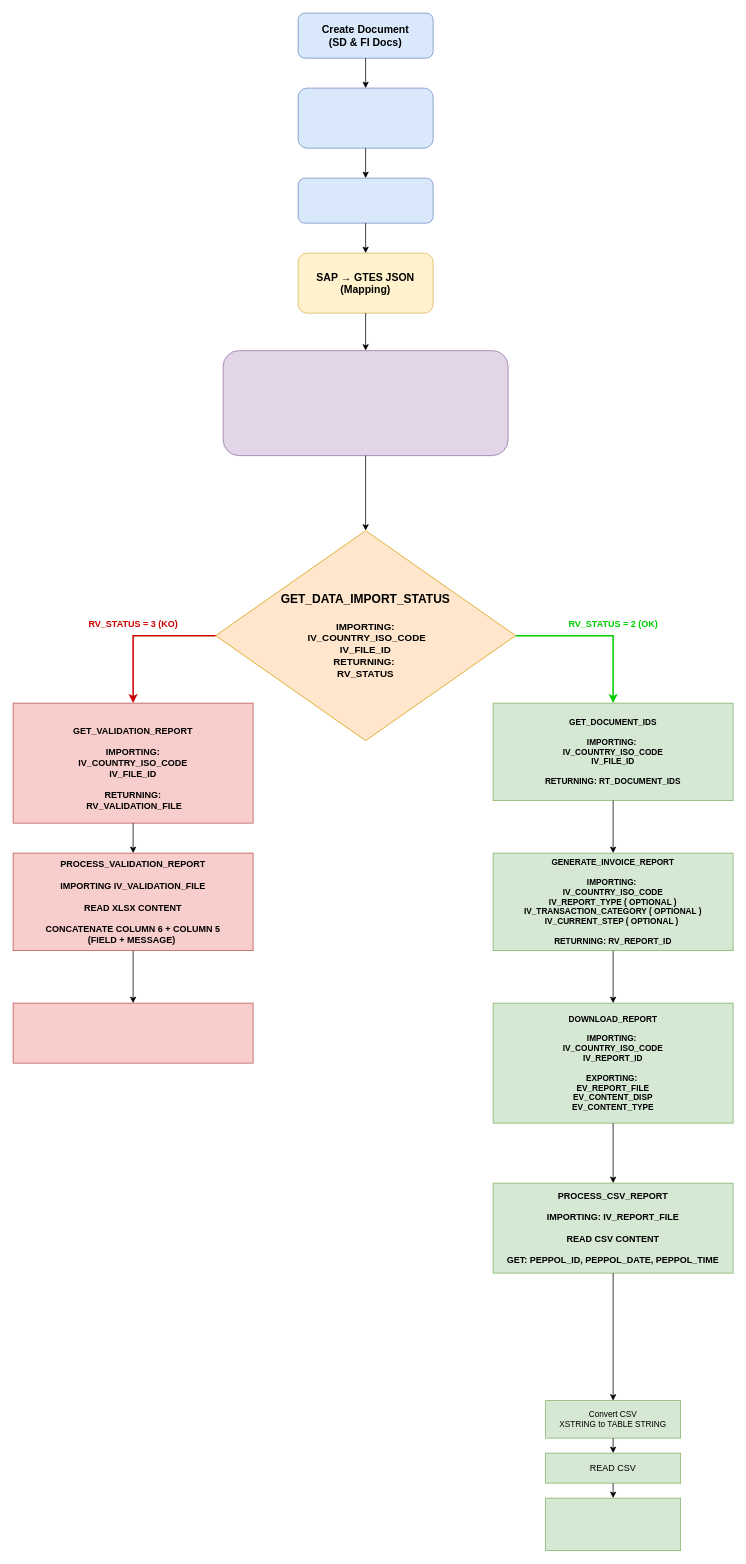
The diagram is 746 pixels wide and 1564 high, and some of its shapes have lost their labels. Here are the shapes that lost their labels. From the top down, the box of each, then its label:
(297, 87, 433, 148): Filter (SM30) - Exit on Save - Extractor
(297, 177, 433, 223): Save to ZEDOCUMENT Table
(222, 350, 508, 456): Submit JSON EXPORTING GTES_JSON IMPORTING GTES_FILE_ID
(12, 1002, 253, 1063): SAVE MESSAGE TO DATABASE ( BAL_DB_SAVE )
(545, 1497, 681, 1551): Extract: - PEPPOL_ID - PEPPOL_DATE - PEPPOL_TIME
